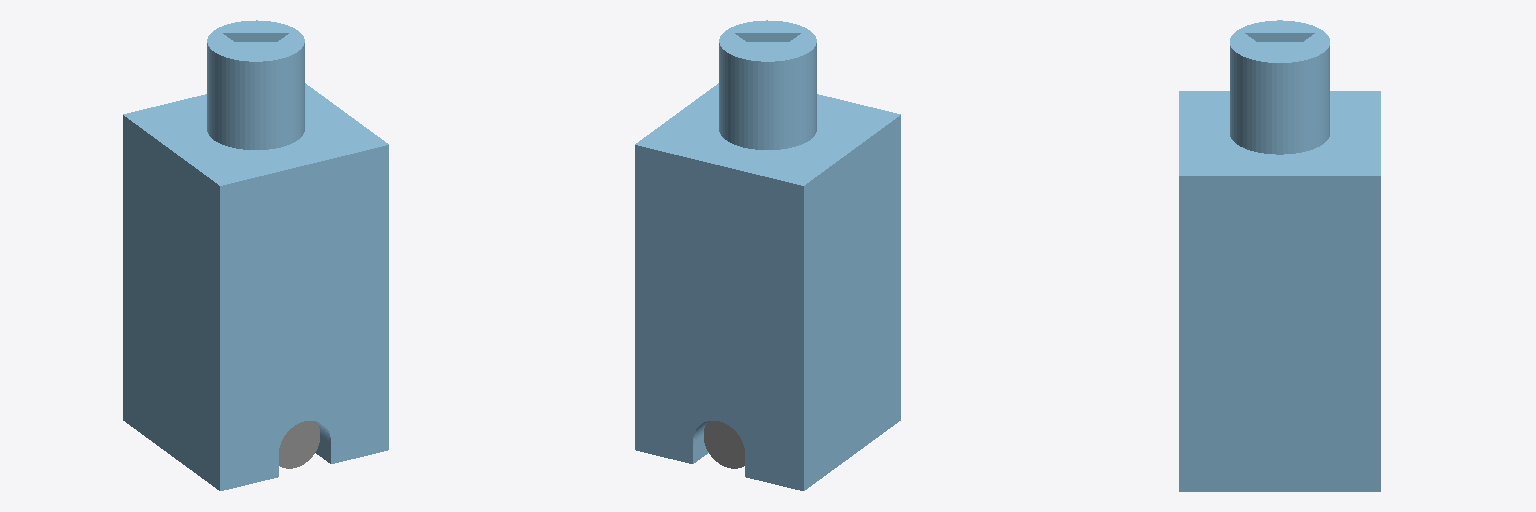
robot.urdf — robot_visualization:
<!--URDF generated by ONSHAPE BY PTC INC, 1.223-->
<robot name="robot_visualization">
    <link name="base_link">
        <inertial>
            <mass value="0.0139527" />
            <origin xyz="1.23312e-18 1.55373e-18 0.196088" rpy="0 -0 0" />
            <inertia ixx="0.000203001" ixy="0" ixz="0" iyy="0.000201133" iyz="0" izz="9.07619e-05" />
        </inertial>
        <visual>
            <origin xyz="0 0 0" rpy="0 -0 0" />
            <geometry>
                <mesh filename="package://robot_visualization/meshes/base_link.stl" scale="1 1 1" />
            </geometry>
            <material name="0.615686_0.811765_0.929412_0.000000_0.000000">
                <color rgba="0.615686 0.811765 0.929412 1" />
            </material>
        </visual>
    </link>
    <link name="left_wheel">
        <inertial>
            <mass value="2.82743e-05" />
            <origin xyz="0.025 5.4452e-19 0" rpy="0 -0 0" />
            <inertia ixx="1.27235e-08" ixy="0" ixz="0" iyy="6.59734e-09" iyz="0" izz="6.59734e-09" />
        </inertial>
        <visual>
            <origin xyz="-0.04839 0 -0.03" rpy="0 -0 0" />
            <geometry>
                <mesh filename="package://robot_visualization/meshes/left_wheel.stl" scale="1 1 1" />
            </geometry>
            <material name="0.647059_0.647059_0.647059_0.000000_0.000000">
                <color rgba="0.647059 0.647059 0.647059 1" />
            </material>
        </visual>
    </link>
    <link name="mate_connector_1">
        <inertial>
            <mass value="1e-09" />
            <origin xyz="0 0 0" rpy="0 -0 0" />
            <inertia ixx="4e-14" ixy="0" ixz="0" iyy="4e-14" iyz="0" izz="4e-14" />
        </inertial>
    </link>
    <link name="right_wheel">
        <inertial>
            <mass value="2.82743e-05" />
            <origin xyz="0.005 5.4452e-19 0" rpy="0 -0 0" />
            <inertia ixx="1.27235e-08" ixy="0" ixz="0" iyy="6.59734e-09" iyz="0" izz="6.59734e-09" />
        </inertial>
        <visual>
            <origin xyz="-0.06839 0 -0.03" rpy="0 -0 0" />
            <geometry>
                <mesh filename="package://robot_visualization/meshes/right_wheel.stl" scale="1 1 1" />
            </geometry>
            <material name="0.647059_0.647059_0.647059_0.000000_0.000000">
                <color rgba="0.647059 0.647059 0.647059 1" />
            </material>
        </visual>
    </link>
    <link name="root" />
    <joint name="fastened_1" type="fixed">
        <origin xyz="0 0 0" rpy="0 0 -1.5708" />
        <axis xyz="-0 -0 -1" />
        <parent link="root" />
        <child link="base_link" />
    </joint>
    <joint name="mate_connector_1" type="fixed">
        <origin xyz="0 0 0" rpy="0 -0 0" />
        <axis xyz="0 0 1" />
        <parent link="base_link" />
        <child link="mate_connector_1" />
    </joint>
    <joint name="revolute_1" type="continuous">
        <origin xyz="0.08 -5.55112e-18 0.03" rpy="0 -0 3.14159" />
        <axis xyz="-1 0 0" />
        <parent link="base_link" />
        <child link="right_wheel" />
    </joint>
    <joint name="revolute_2" type="continuous">
        <origin xyz="-0.1 5.72854e-18 0.03" rpy="0 0 -6.93889e-17" />
        <axis xyz="1 -0 -0" />
        <parent link="base_link" />
        <child link="left_wheel" />
    </joint>
</robot>

--- What the picture shows (computed from the rendered views, not written in the file) ---
The picture shows the robot from 3 angles, left to right: view 1: azimuth 30°, elevation 25°; view 2: azimuth 150°, elevation 25°; view 3: azimuth 270°, elevation 25°; orthographic projection.
Robot: robot_visualization — 5 links, 4 joints (2 continuous, 2 fixed); root link root; default pose: every joint at zero.
Links seen in each view (by area): view 1: base_link, right_wheel; view 2: base_link, left_wheel; view 3: base_link.
Boxes of the visible links, box(x1,y1,x2,y2) form: base_link: box(123, 20, 388, 490); right_wheel: box(279, 421, 319, 468); base_link: box(635, 20, 900, 490); left_wheel: box(704, 421, 744, 468); base_link: box(1179, 20, 1380, 491).
Bounding box of the posed robot: 0.2 × 0.2 × 0.45 m (x, y, z).
3 mesh visuals loaded from 3 distinct referenced files (3 binary STL).
